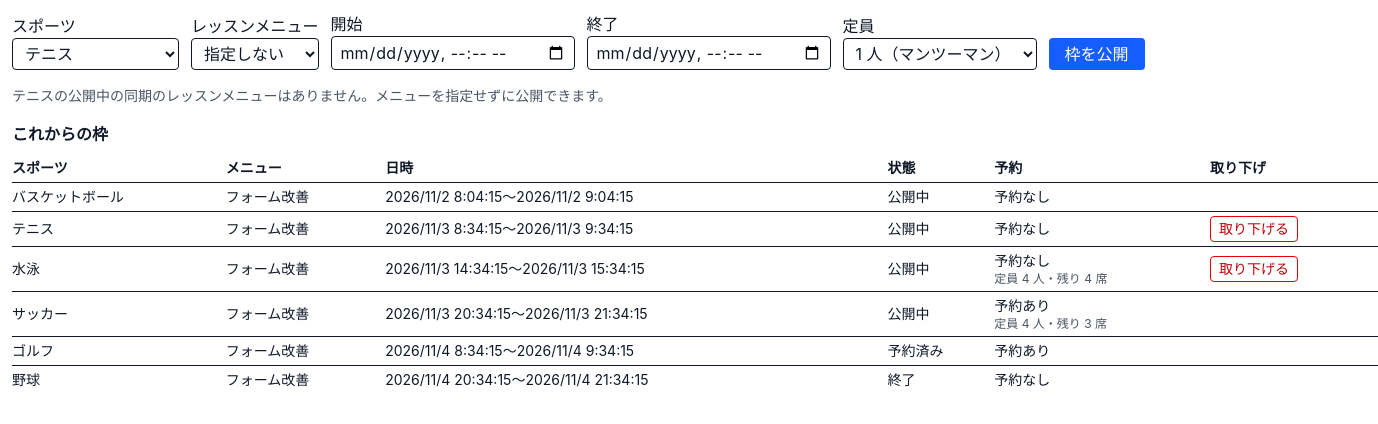
Test case: 自分の枠の取り下げ › 押したら行の中で確かめ、「やめる」なら送らない
Step 1. Click the button "取り下げる" in the row of "2026/11/3 8:34:15" → (1254, 229), box top-left (1210, 216), bottom-right (1298, 242)
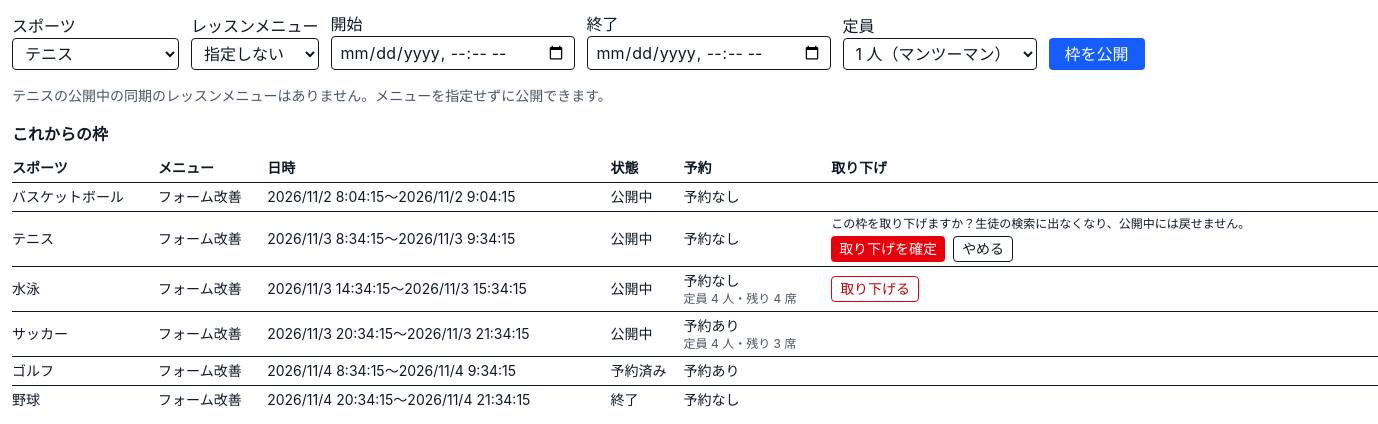
expect the element named "枠の取り下げの確認" shows "この枠を取り下げますか？": met, box top-left (831, 216), bottom-right (1250, 231)
Step 2. Click the button "やめる" → (983, 249), box top-left (953, 236), bottom-right (1013, 262)
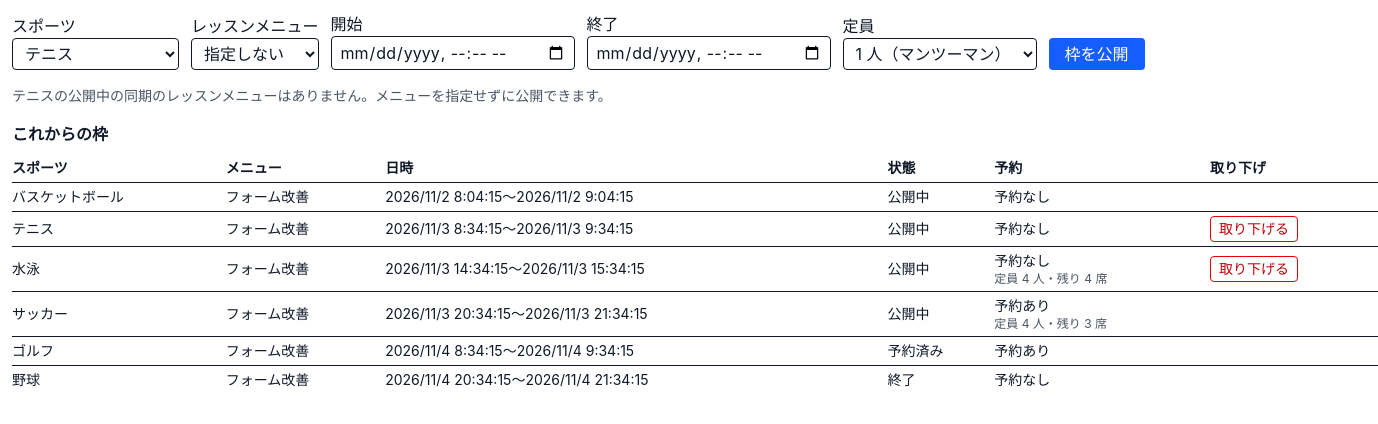
expect the button "取り下げる" in the row of "2026/11/3 8:34:15" is shown: met, box top-left (1210, 216), bottom-right (1298, 242)
